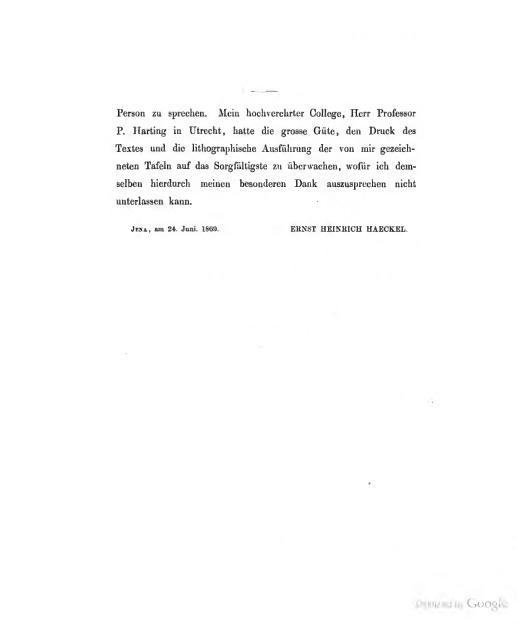MainZone: (100, 93, 428, 257)
NoiseZone: (408, 584, 517, 625)
